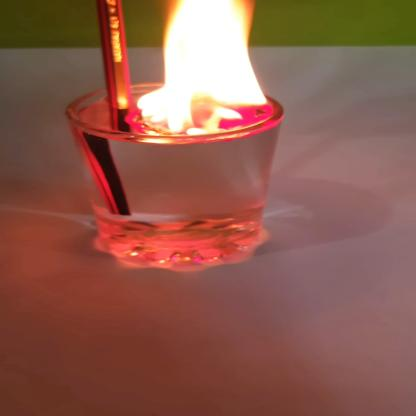Fire: (115, 0, 273, 130)
